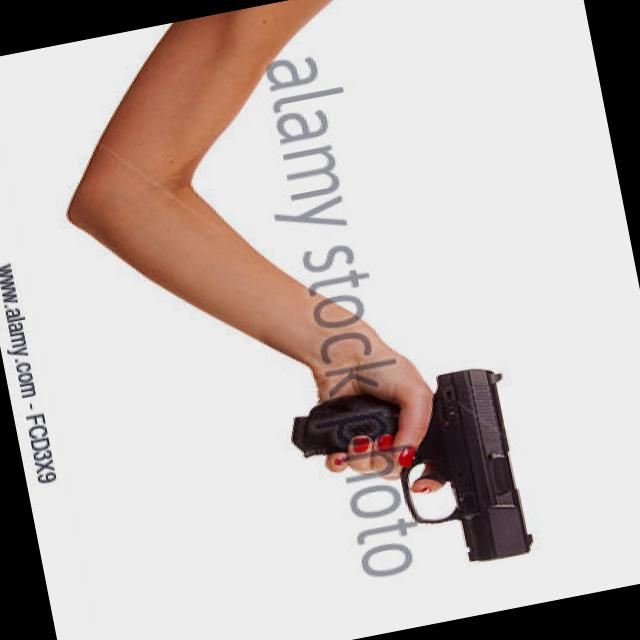handgun: (282, 356, 542, 592)
